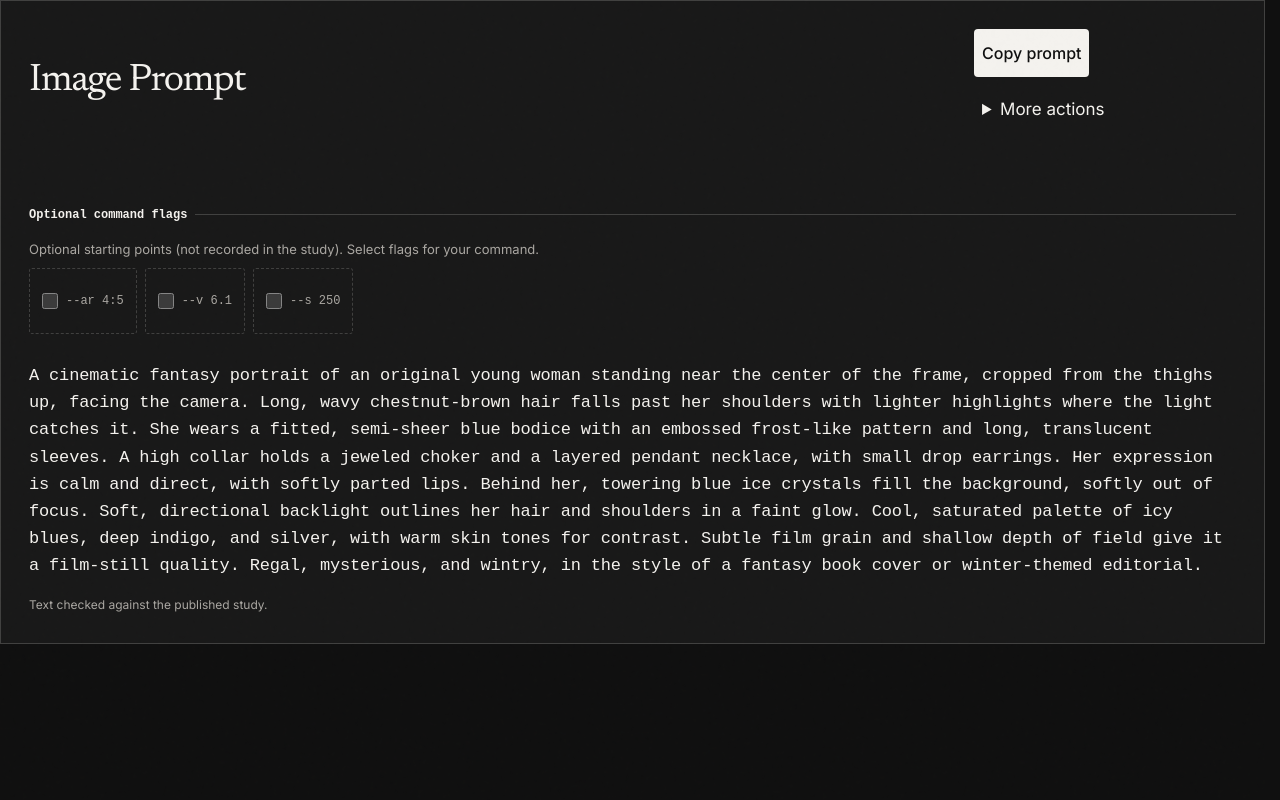
it: reports recipe card export failure from the secondary action group
Click the heading "More actions": (1052, 109) [1000,99,1104,119]
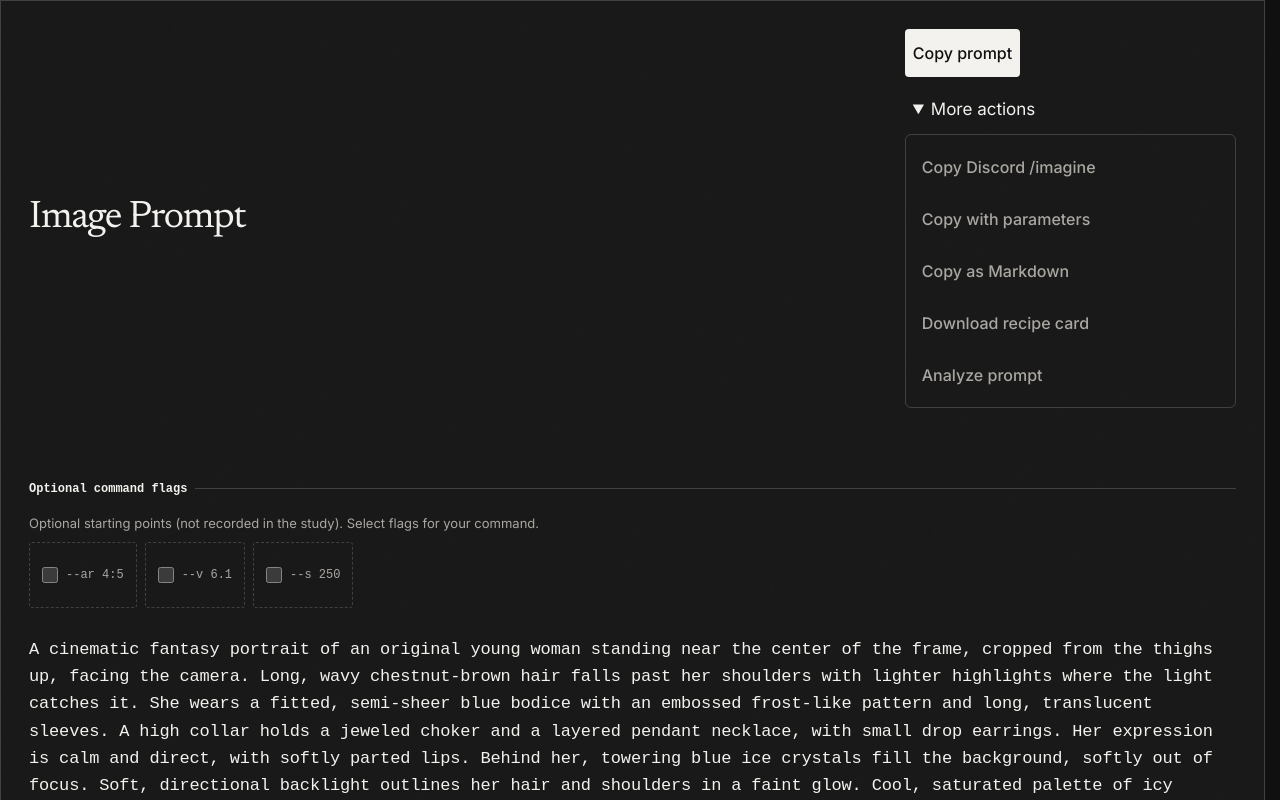
Click the button "Download recipe card": (1070, 323) [914,299,1227,347]
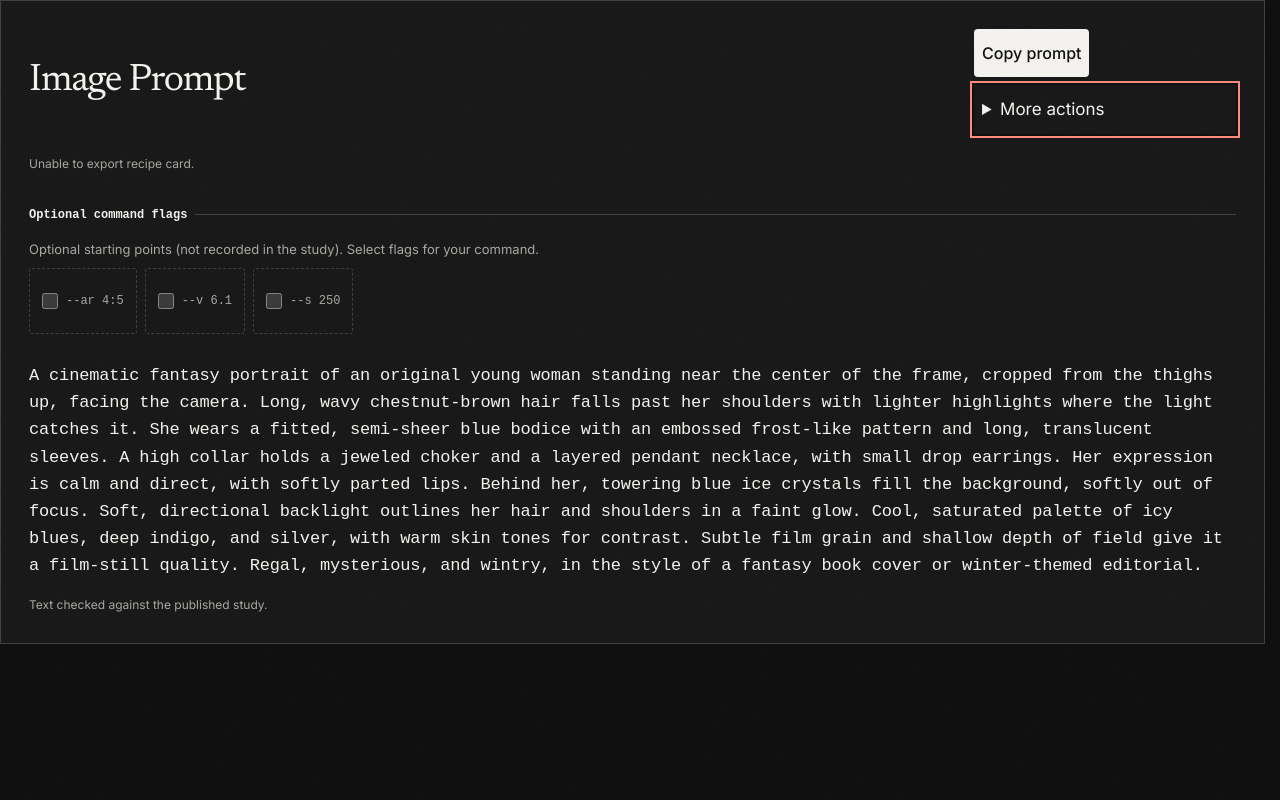
Now the message reads "Unable to export recipe card.", box [29,156,194,171]
